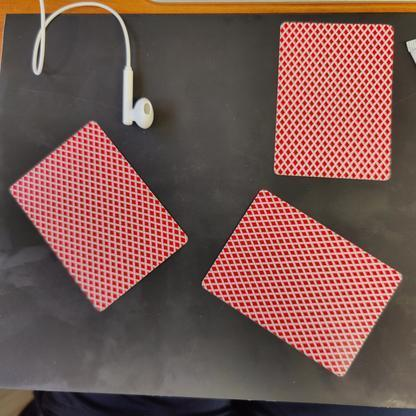card: (199, 184, 410, 381), (5, 114, 197, 315), (268, 15, 401, 187)
